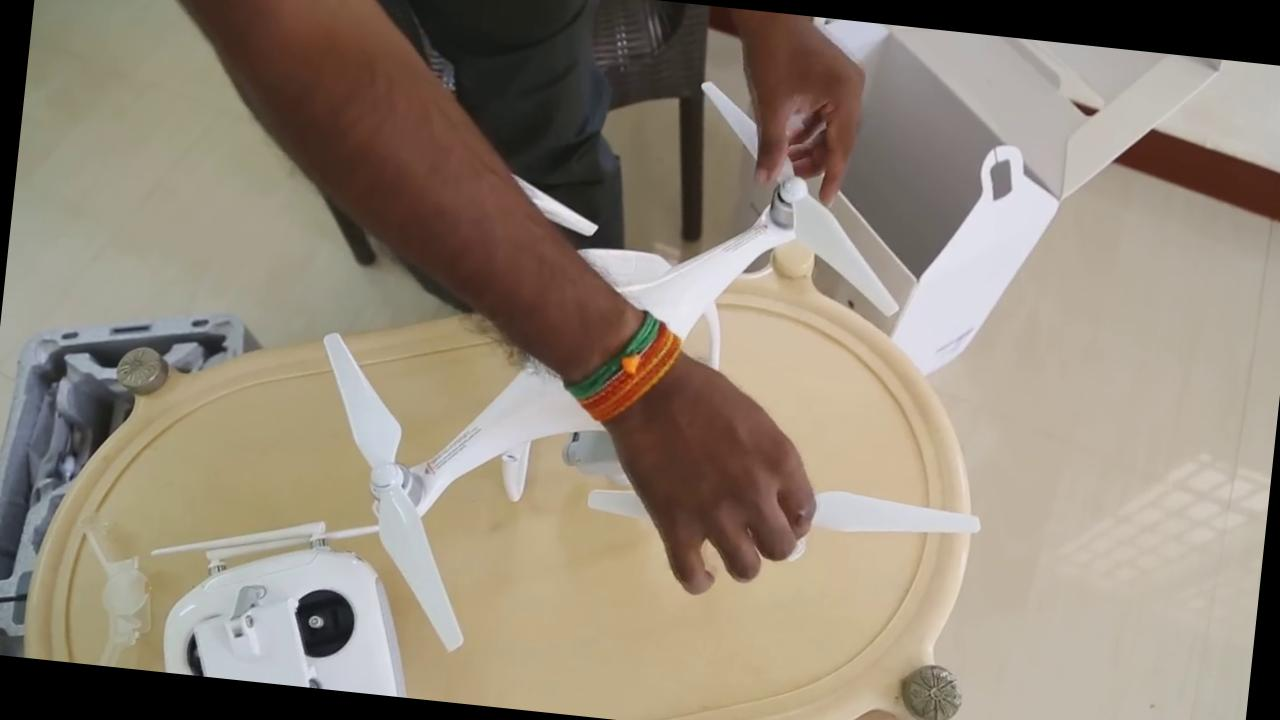drone: (211, 44, 1059, 720)
